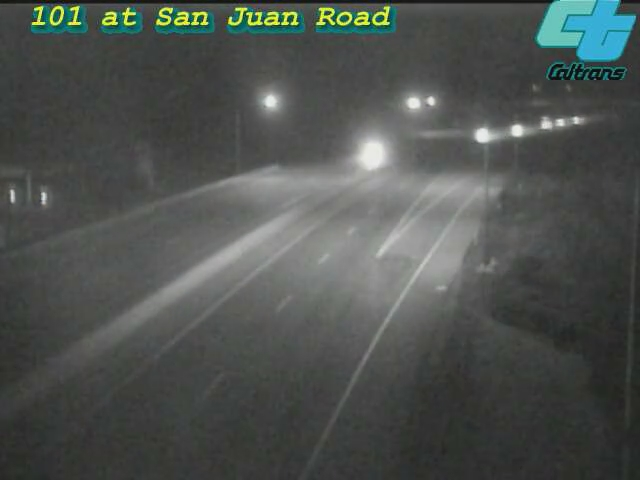vehicle: (346, 131, 396, 181), (550, 95, 600, 145), (538, 98, 588, 148), (525, 97, 575, 147), (496, 105, 546, 155), (461, 109, 511, 159)
